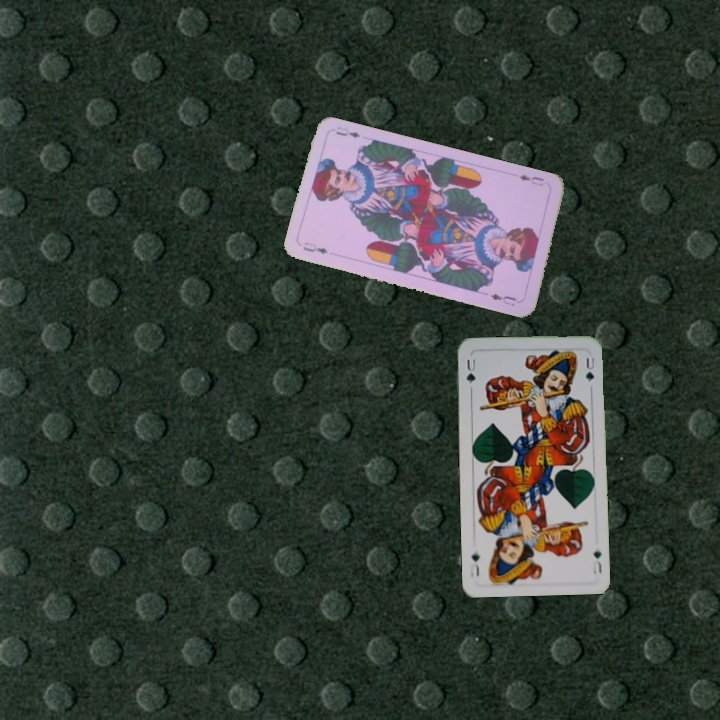EU: (299, 238, 331, 257), (515, 171, 546, 189)
GU: (462, 355, 478, 386), (589, 546, 604, 576)
